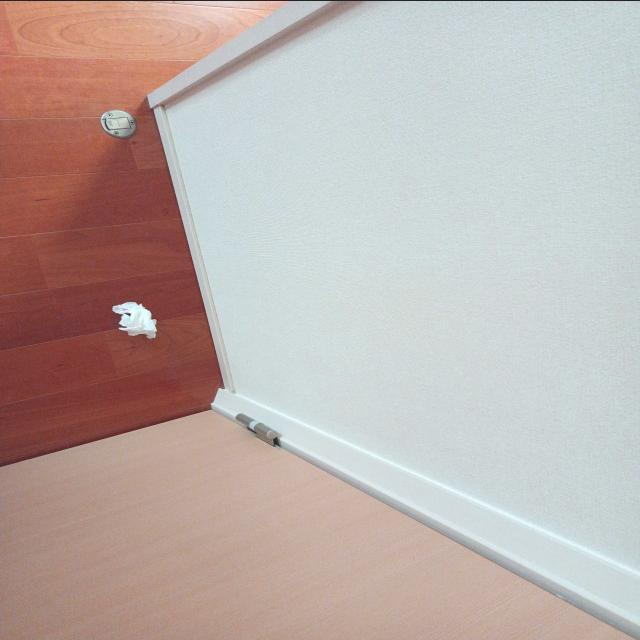Paper: (111, 301, 162, 349)
